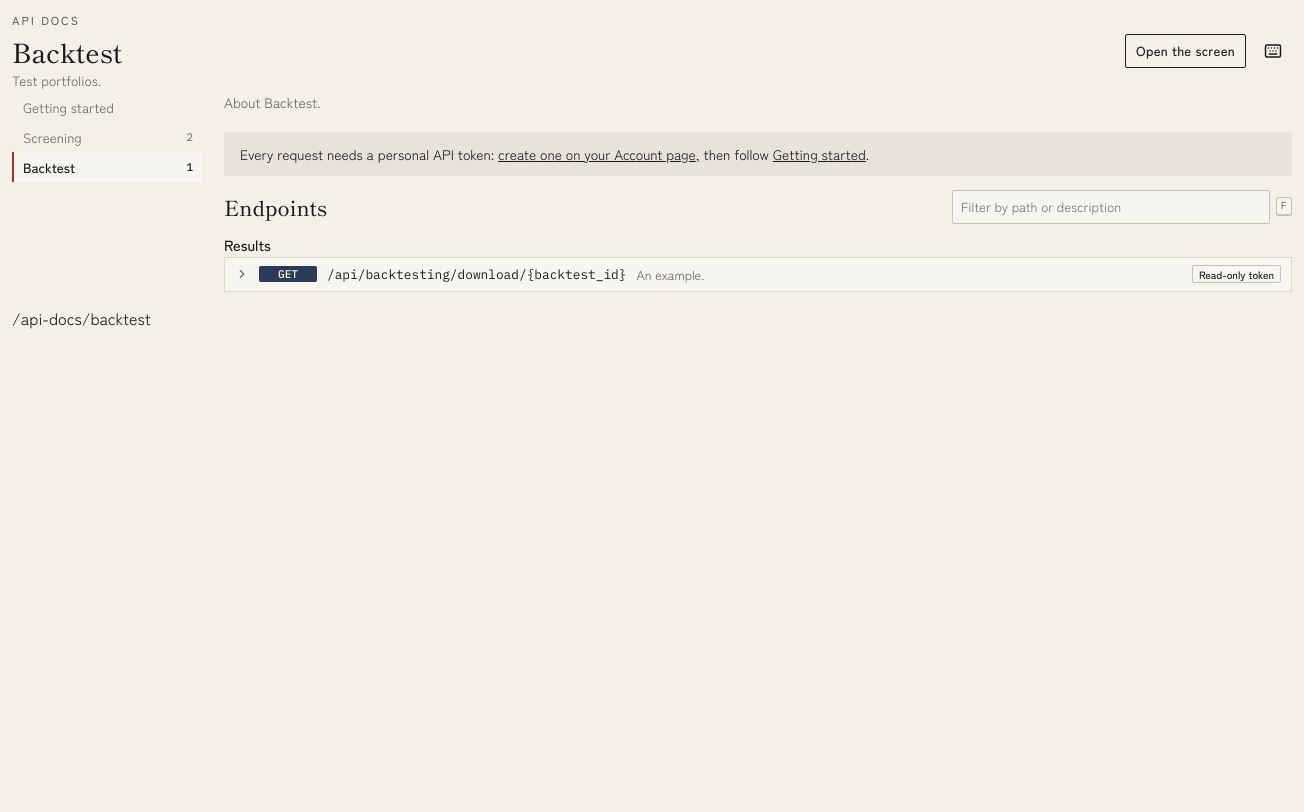
Test case: ApiDocsPage › shows a download answer as a file to save
The width and height of the screenshot is (1304, 812).
Click the button "GET /api/backtesting/download" at (288, 274), box [225, 258, 1291, 291]
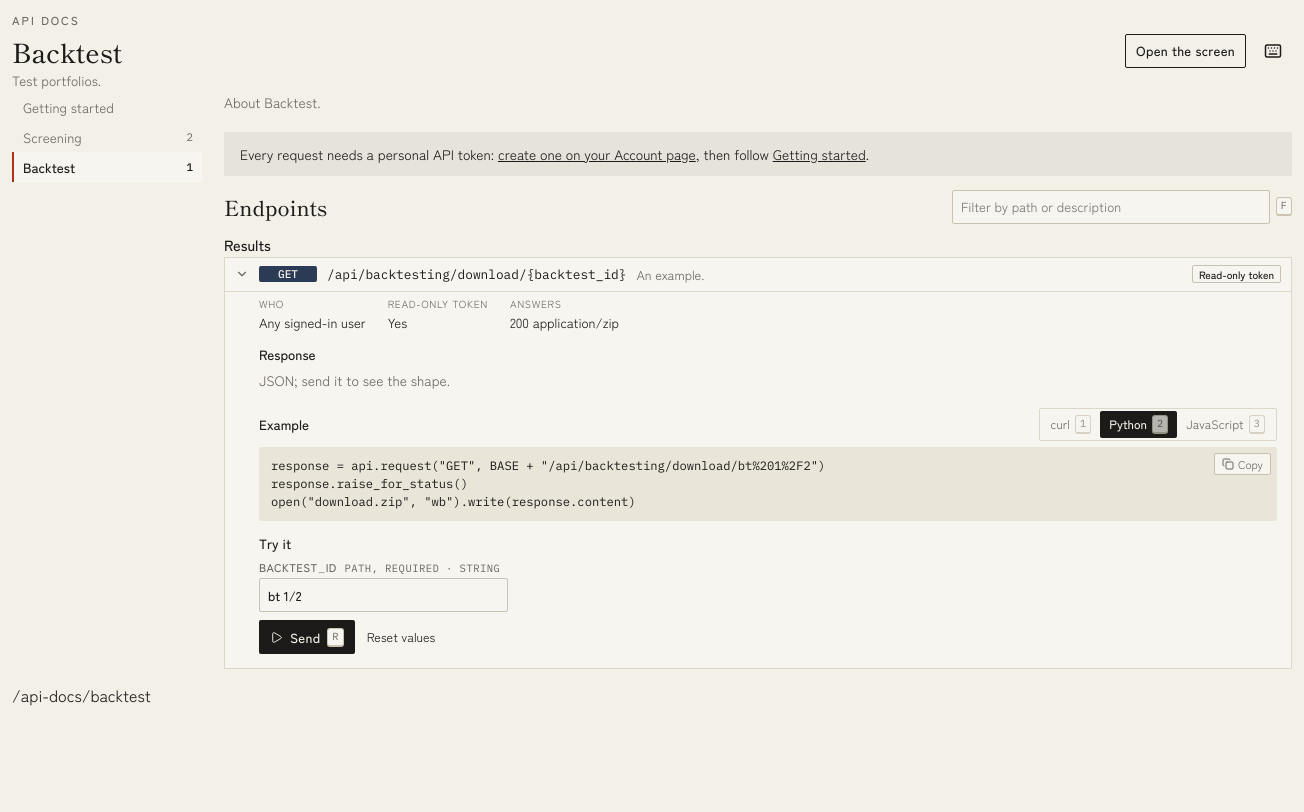
Click the button "Send R" at (307, 637), box [259, 620, 355, 654]
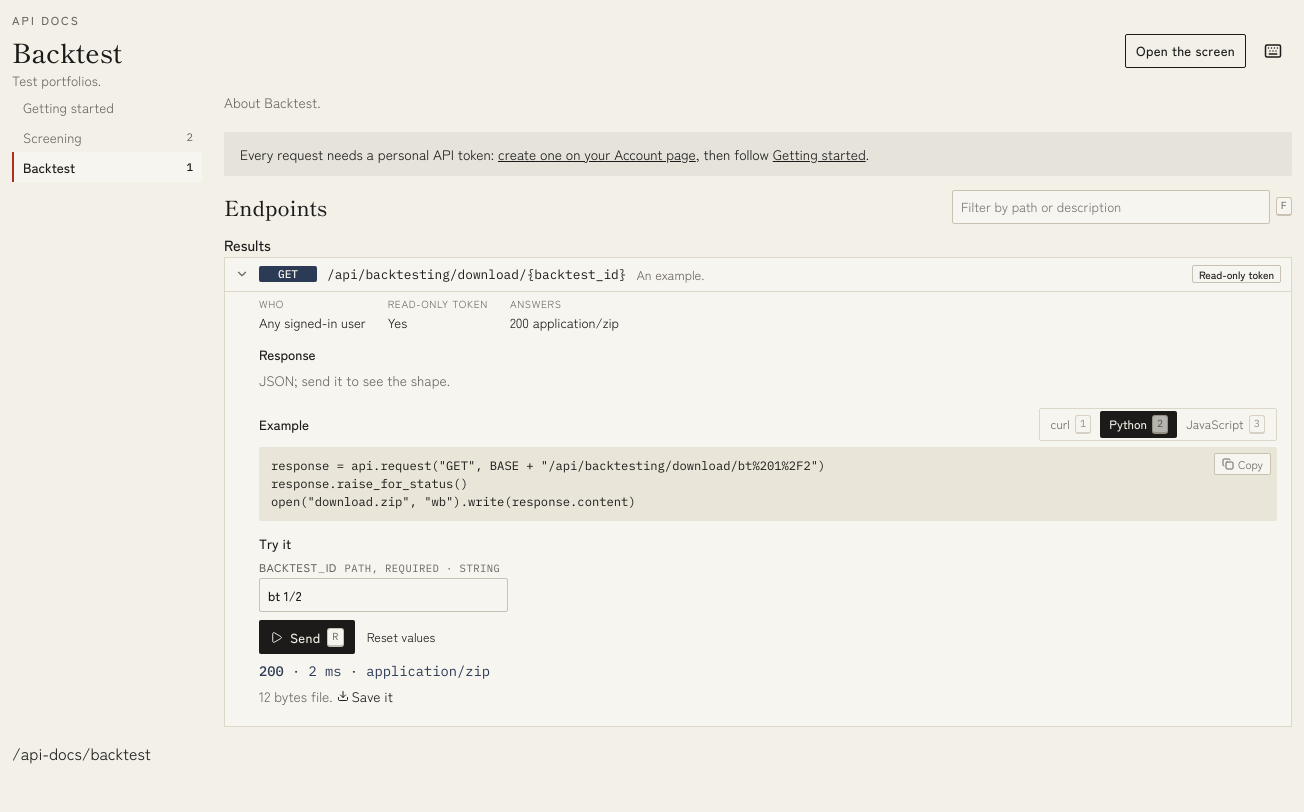
expect the text "12 bytes file. Save it" is shown: met, box [259, 686, 393, 706]
expect the button "Save it" is shown: met, box [336, 686, 393, 706]
